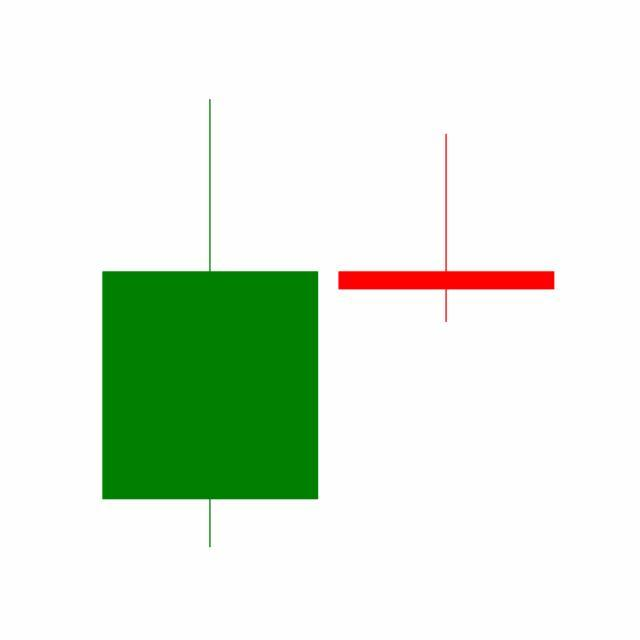Spinning Top: (328, 132, 566, 326)
